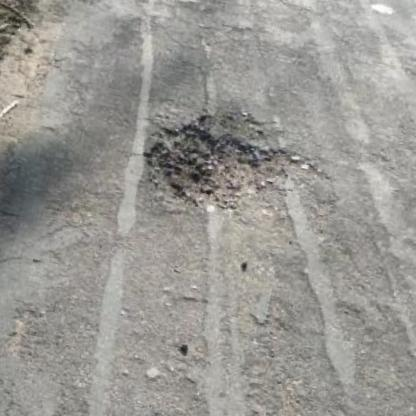pothole: (135, 95, 321, 232)
